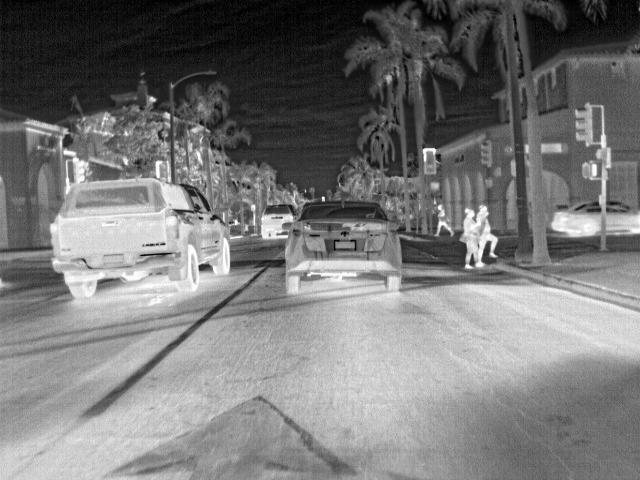car: (50, 178, 231, 300), (284, 199, 404, 294), (548, 198, 601, 233), (259, 202, 296, 240), (606, 200, 640, 239)
person: (461, 205, 479, 270), (480, 203, 500, 258), (436, 203, 455, 238)
